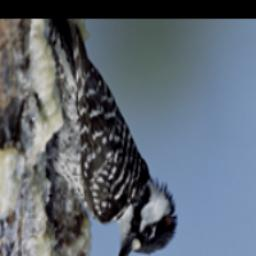Woodpecker: (11, 24, 179, 256)
